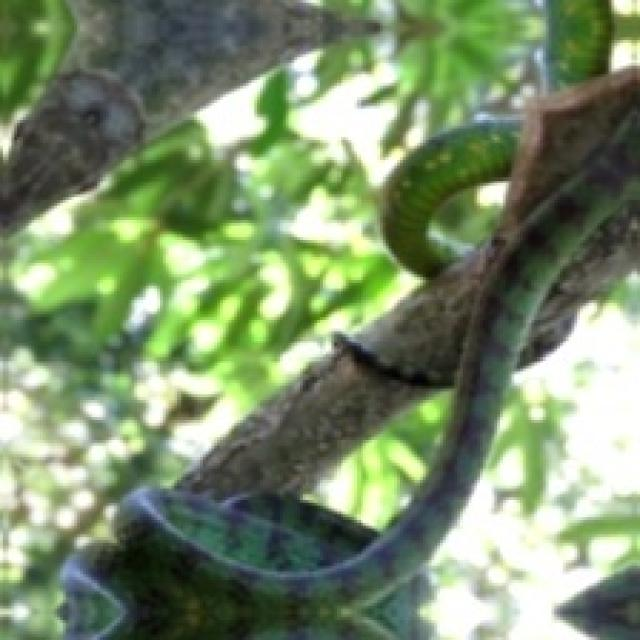philippine pitviper: (63, 69, 637, 637), (385, 120, 518, 277), (548, 0, 609, 88)
